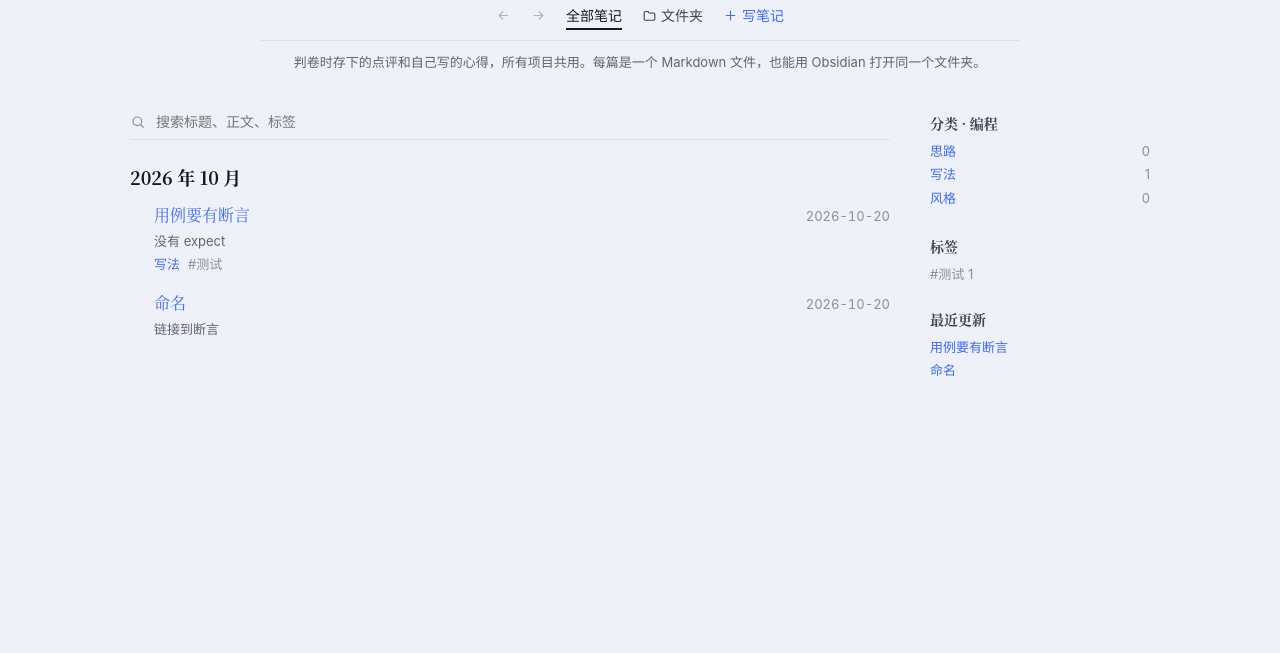
NotesView › a missing [ [link]] is created after asking and opens in the editor
Click the link with class "post-title" below "2026 年 10 月" at {"x": 202, "y": 214}, box [154,202,250,226]
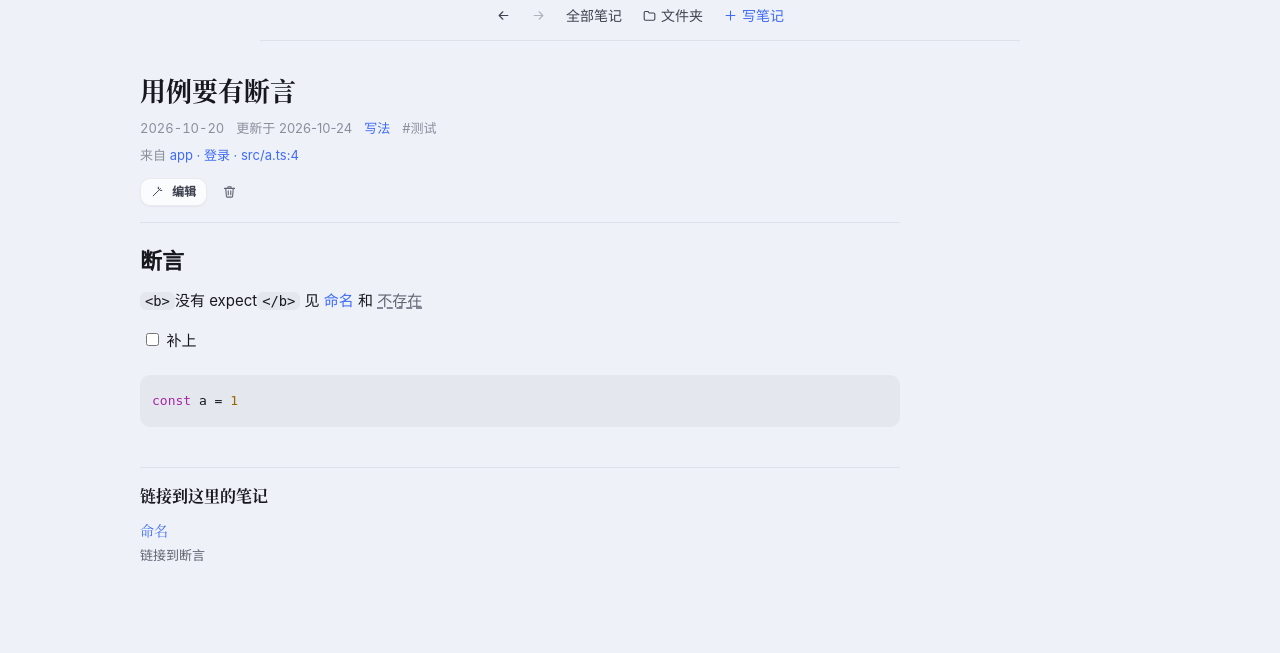
Click the link with class "missing" at {"x": 400, "y": 301}, box [377,292,422,310]
(page scrolled)
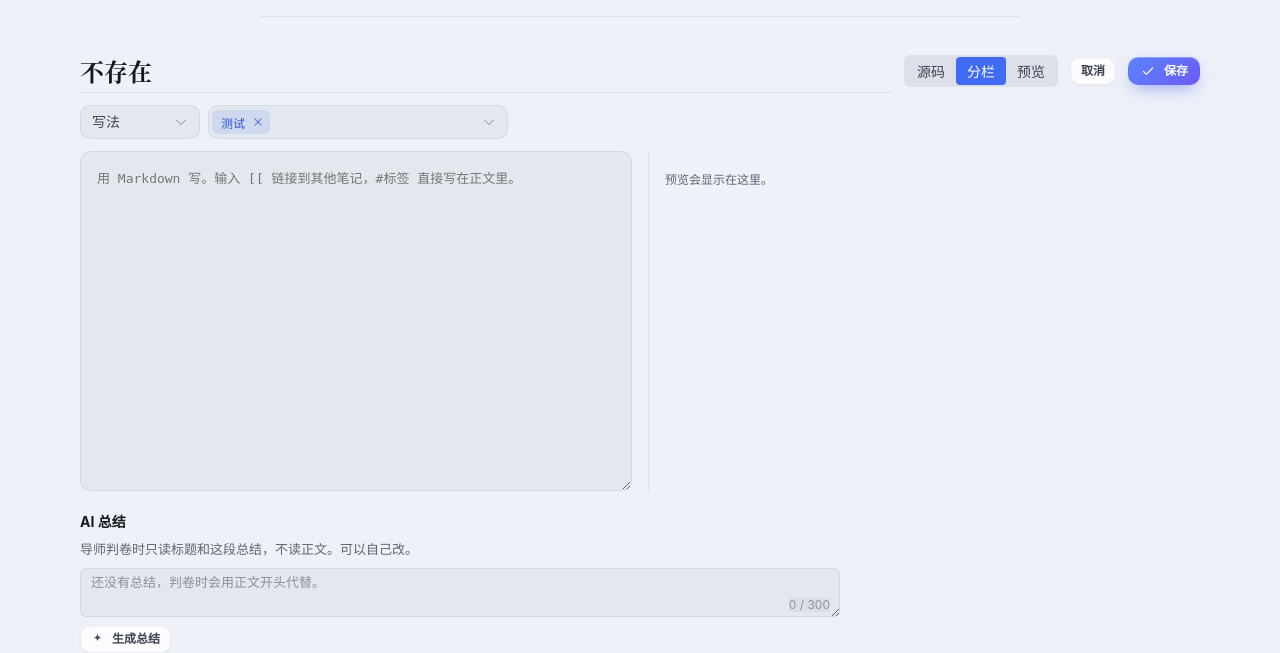
Now the element that starts with "预览会显示在这里。" is shown
